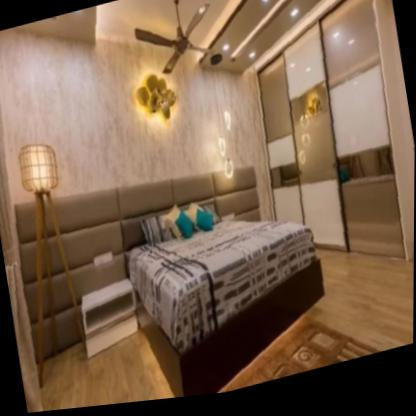Bed: (117, 171, 334, 397)
Closet: (266, 0, 416, 300)
Wall Panel: (14, 171, 263, 368)
